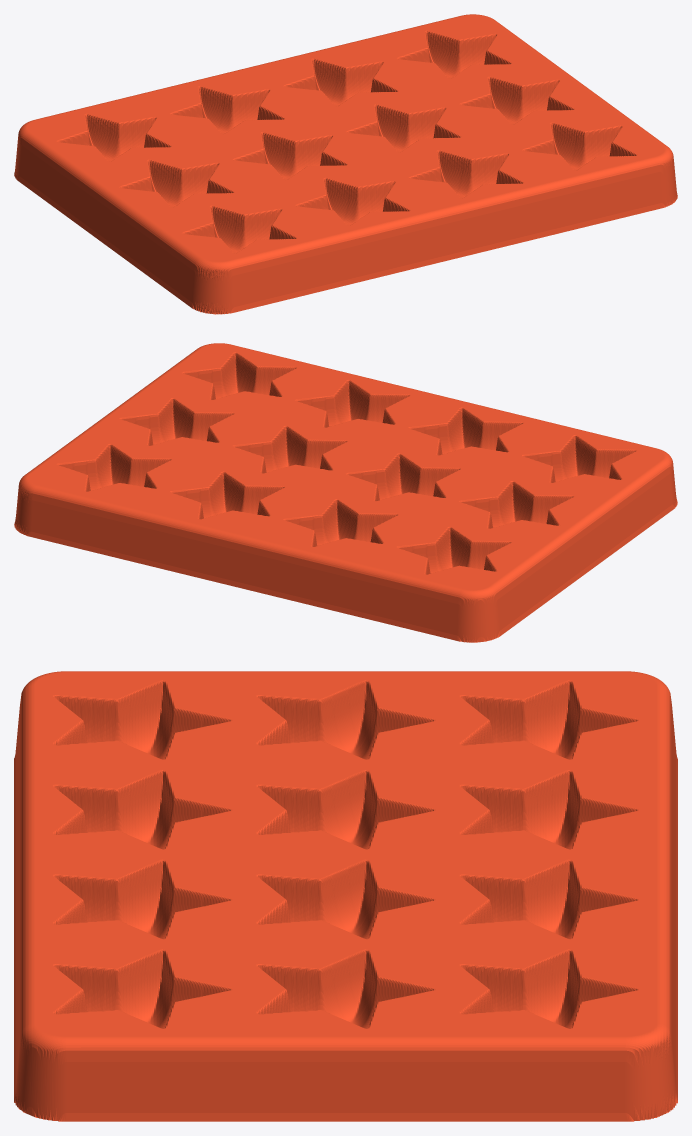
File: mold.glb
3 views of the same model, one above another, from view 1: azimuth 30°, elevation 25°; view 2: azimuth 150°, elevation 25°; view 3: azimuth 270°, elevation 25° (orthographic). The views are drawn at different scales.
Parts seen in each view (by area): view 1: geometry_0; view 2: geometry_0; view 3: geometry_0.
Boxes of the visible parts, left/top/right/bottom form: geometry_0: left=14, top=14, right=677, bottom=314; geometry_0: left=14, top=343, right=677, bottom=642; geometry_0: left=14, top=671, right=677, bottom=1121.
Size of the model in its own units: 0.1558 by 0.0145 by 0.1145.
